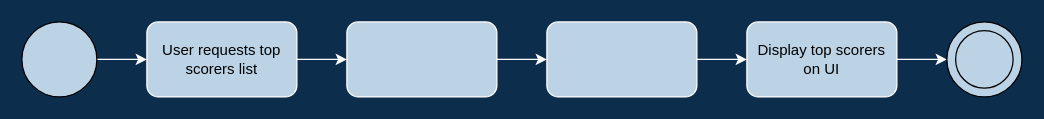
Image size: 1044x119. Some labels were removed from this diagram. Here are the shapes that lost their labels. From the top down, the centre of each, then its label:
At point (421, 59): "Fetch all player goal data from database".
At point (621, 59): "Sort players by total goals".
